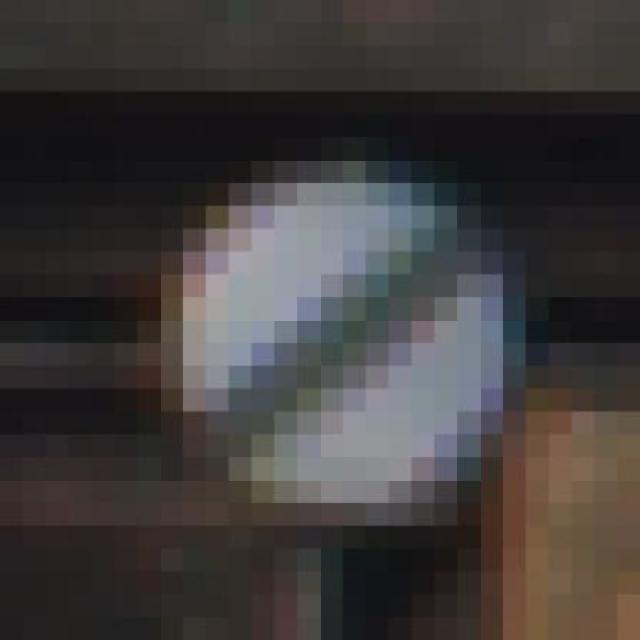End of all speed and passing limits: (114, 160, 549, 549)
